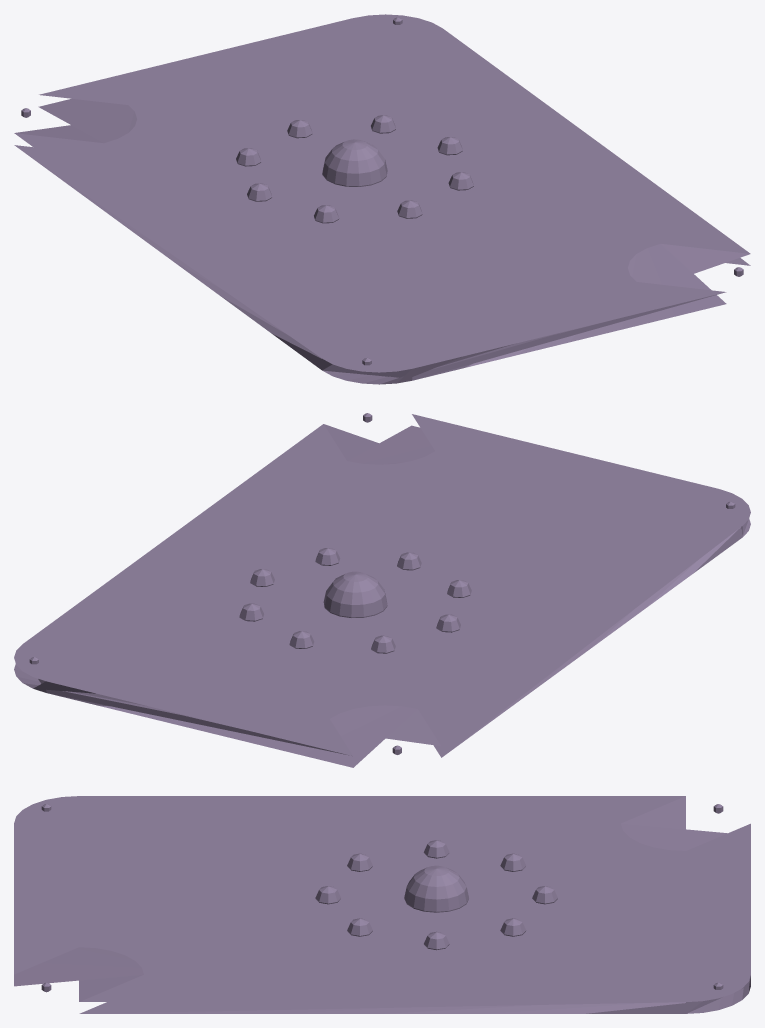
The model's file is tarot_card.glb.
3 renders of one model, top to bottom at view 1: azimuth 30°, elevation 25°; view 2: azimuth 150°, elevation 25°; view 3: azimuth 270°, elevation 25°, orthographic. The views are drawn at different scales.
Visible parts, largest first — view 1: tarot_card_future; view 2: tarot_card_future; view 3: tarot_card_future.
Part boxes in pixels (<box>): tarot_card_future: <box>14,14,750,384</box>; tarot_card_future: <box>14,413,750,767</box>; tarot_card_future: <box>14,796,750,1013</box>.
Size of the model in its own units: 0.45 by 0.06 by 0.68.
